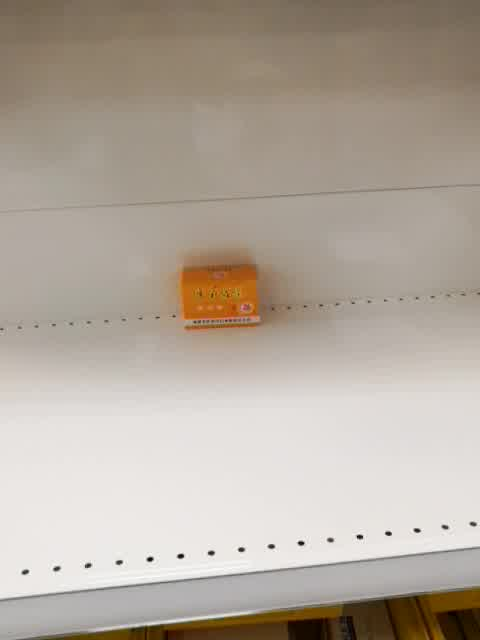jasminetea: (180, 264, 261, 331)
